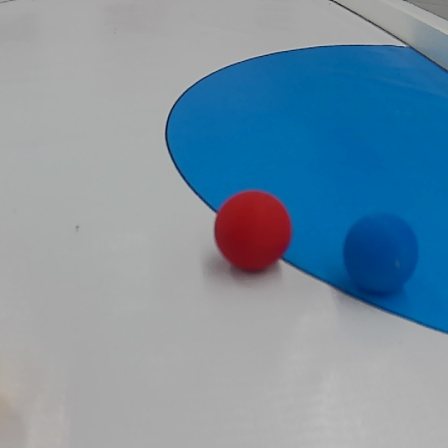blue: (346, 215, 417, 296)
blue_base: (165, 40, 448, 337)
red: (214, 193, 292, 272)
